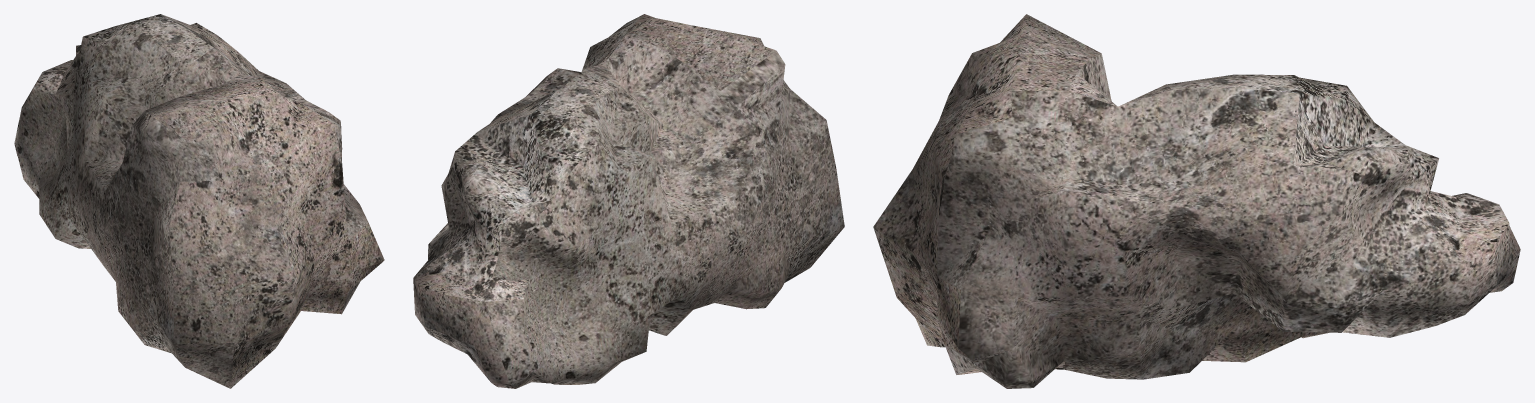
The model's file is Rock_5x10_A.FBX.
3 renders of one model, left to right at view 1: azimuth 30°, elevation 25°; view 2: azimuth 150°, elevation 25°; view 3: azimuth 270°, elevation 25°, orthographic. The views are drawn at different scales.
Parts seen in each view (by area): view 1: Rock_5x10_A; view 2: Rock_5x10_A; view 3: Rock_5x10_A.
Part boxes in pixels (<box>): Rock_5x10_A: <box>14,14,384,388</box>; Rock_5x10_A: <box>413,14,844,388</box>; Rock_5x10_A: <box>873,14,1520,388</box>.
Size of the model in its own units: 5.23 by 5.59 by 10.43.
Materials: 1 (1 with a texture image).
